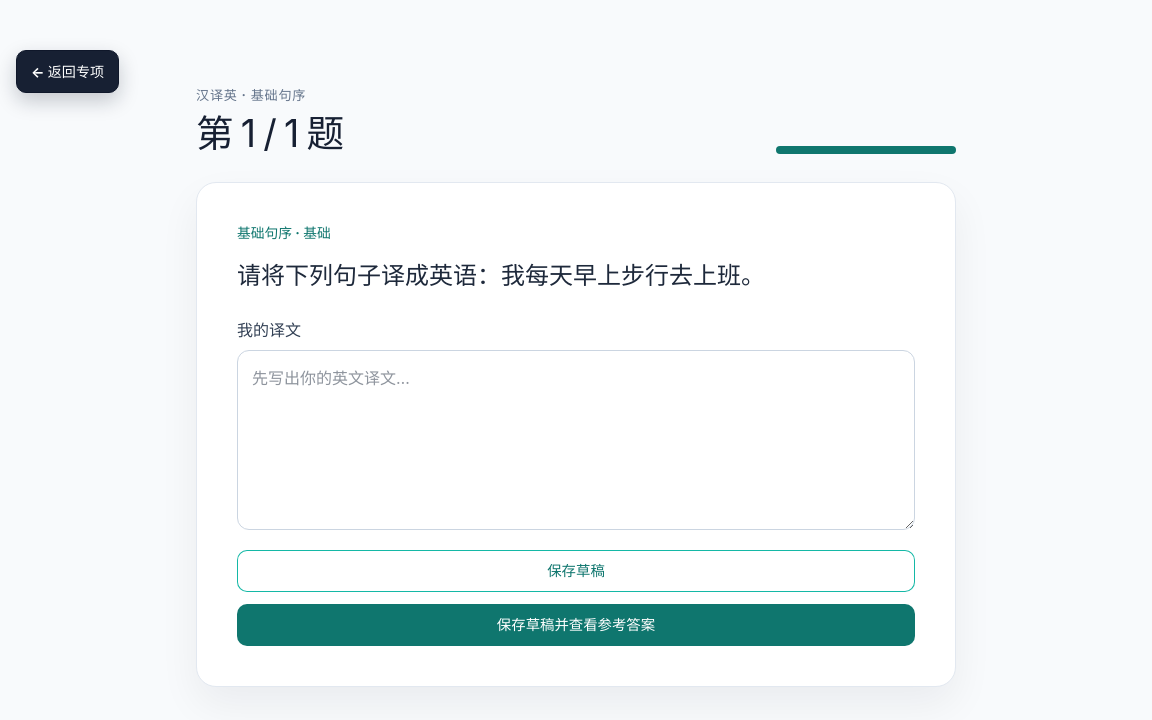
Scenario: SubjectiveSession › saves the learner draft before showing a reference answer and checklist
The image size is (1152, 720).
Type "I walk to work every morning." into the text box labelled "我的译文" at (576, 440), box [237,350,915,530]
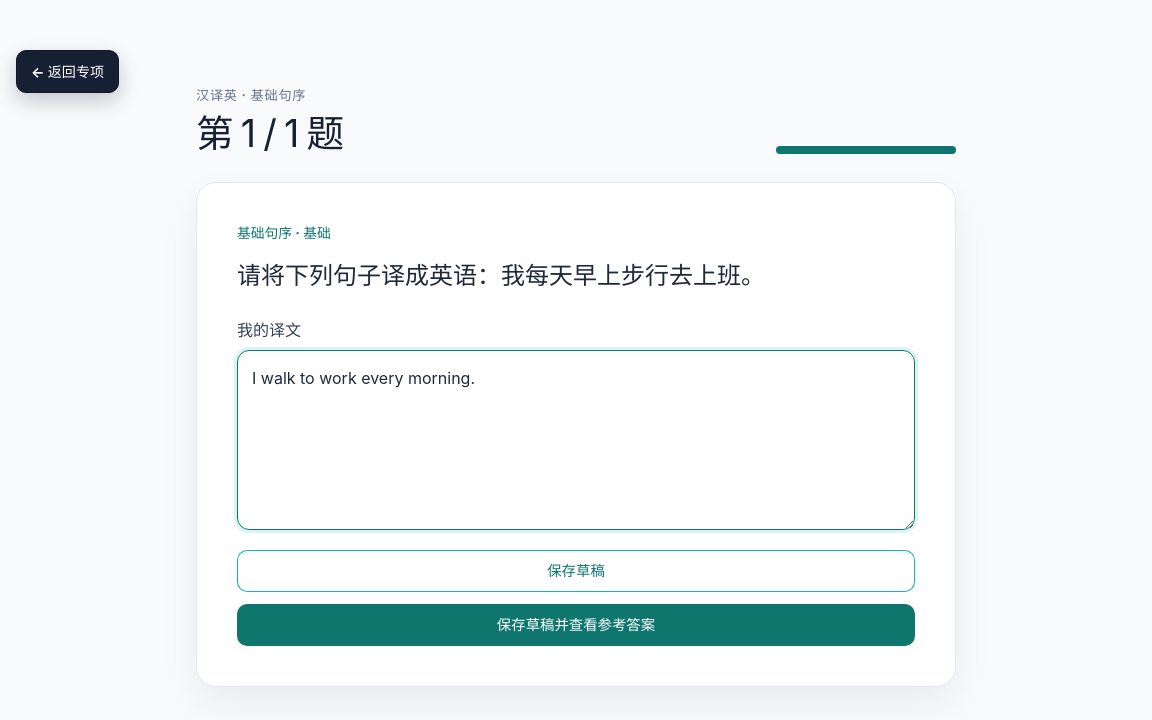
Click the button "保存草稿并查看参考答案" at (576, 625), box [237,604,915,646]
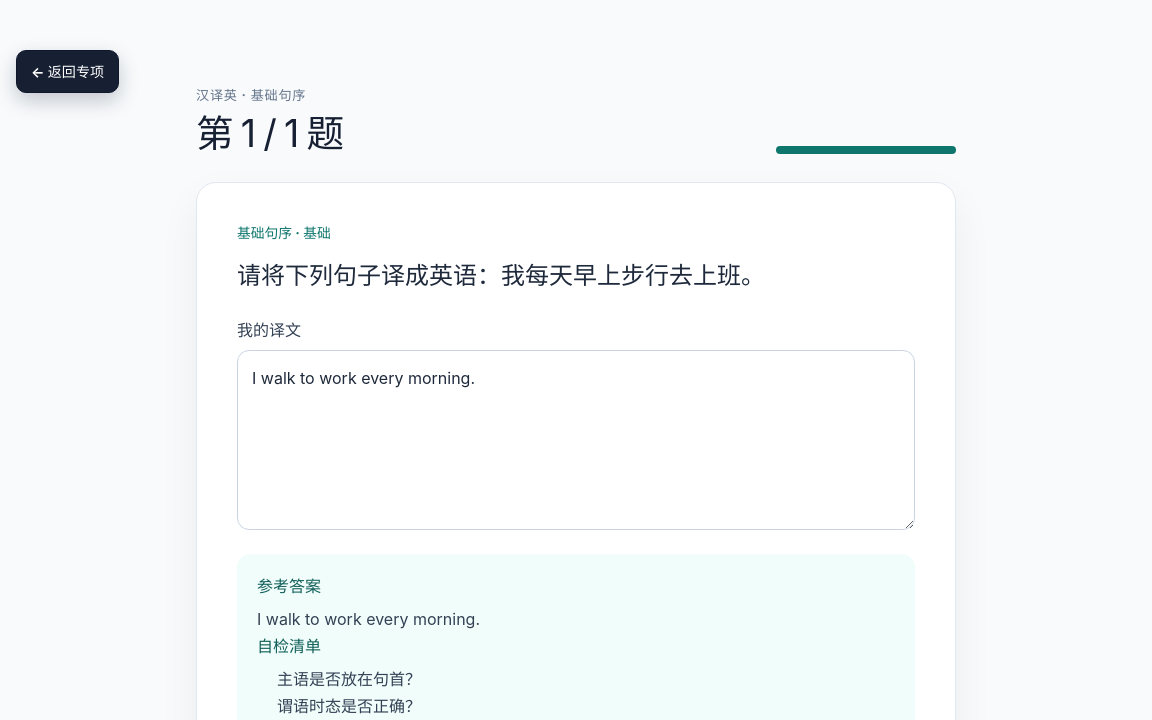
Check: the heading "参考答案" is shown, box [257,576,321,596]
Check: the element named "参考答案与自检" shows "I walk to work every morning.", box [257,609,480,629]
Check: the list item "主语是否放在句首？" is shown, box [277,668,421,688]
